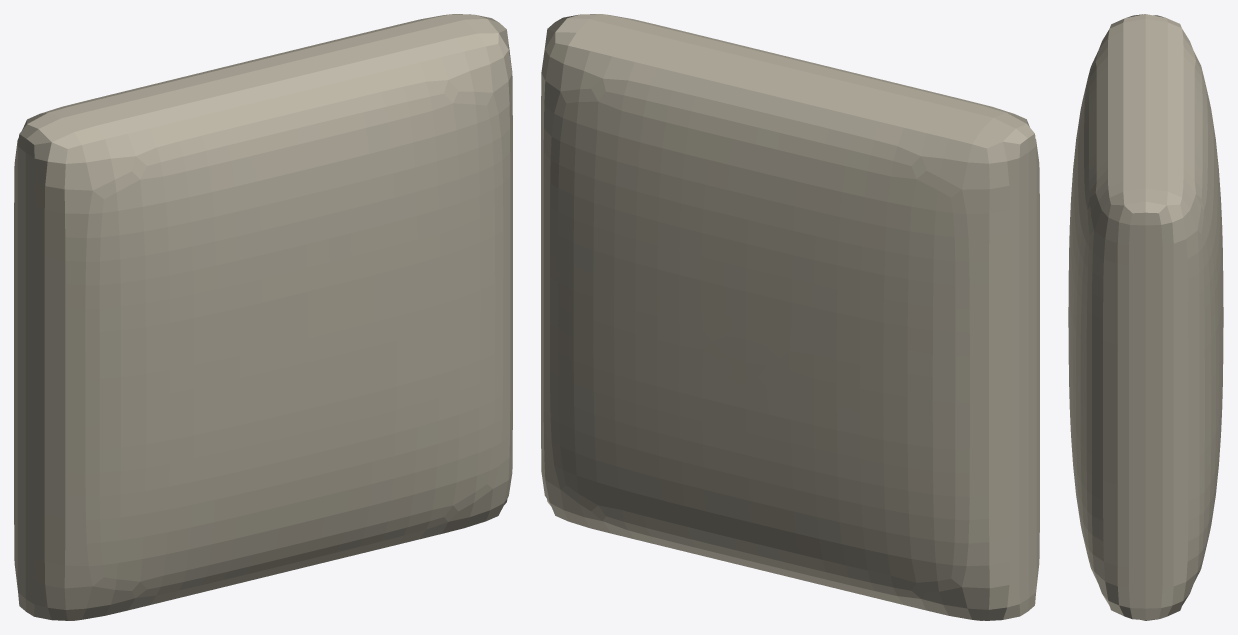
File: HIN-CUS-std.glb
3 views of the same model, side by side, from view 1: azimuth 30°, elevation 25°; view 2: azimuth 150°, elevation 25°; view 3: azimuth 270°, elevation 25° (orthographic). The views are drawn at different scales.
Parts seen in each view (by area): view 1: pillow:pbr; view 2: pillow:pbr; view 3: pillow:pbr.
Part boxes in pixels (x1=…): pillow:pbr: x1=14, y1=14, x2=512, y2=620; pillow:pbr: x1=541, y1=14, x2=1039, y2=620; pillow:pbr: x1=1068, y1=14, x2=1223, y2=620.
Bounding box in the file's own units: 0.4423 × 0.4423 × 0.1453.
